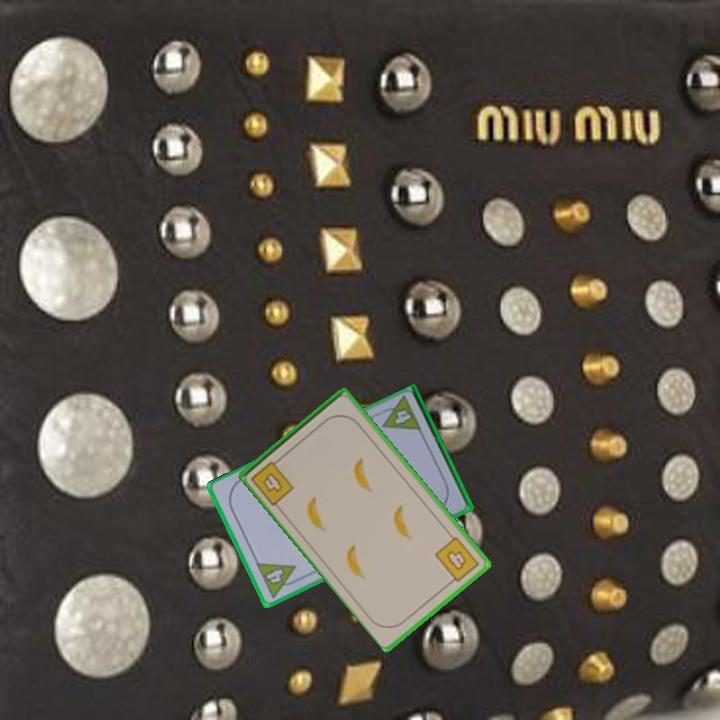4b: (431, 533, 482, 588), (247, 453, 297, 508)
4p: (252, 559, 304, 601), (374, 393, 424, 435)
